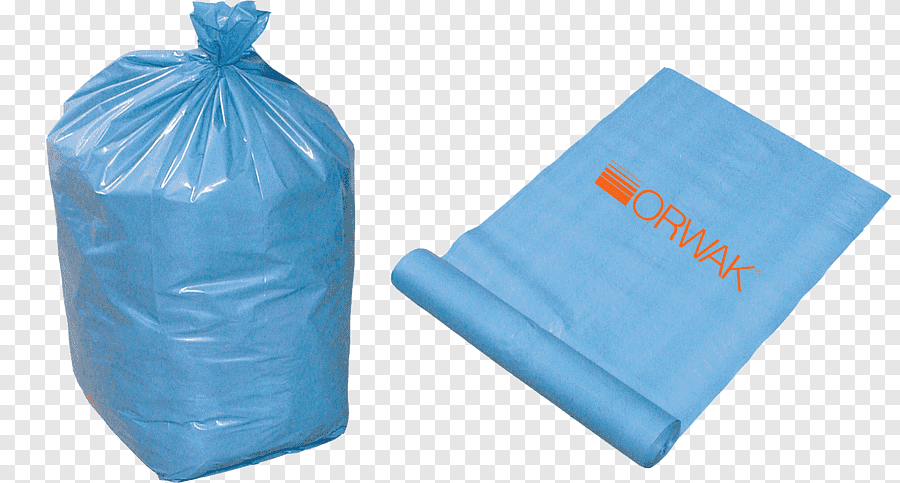plastic_bagwdw: (368, 1, 900, 483), (19, 3, 390, 483)
